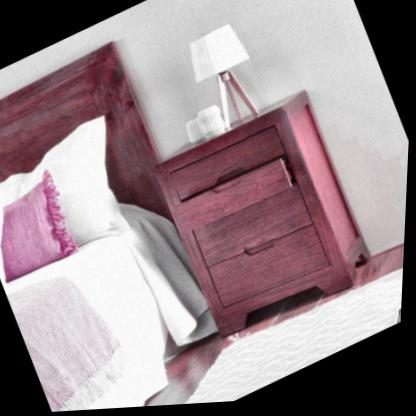Lamp: (175, 17, 271, 128)
Nightstand: (142, 82, 392, 356)
